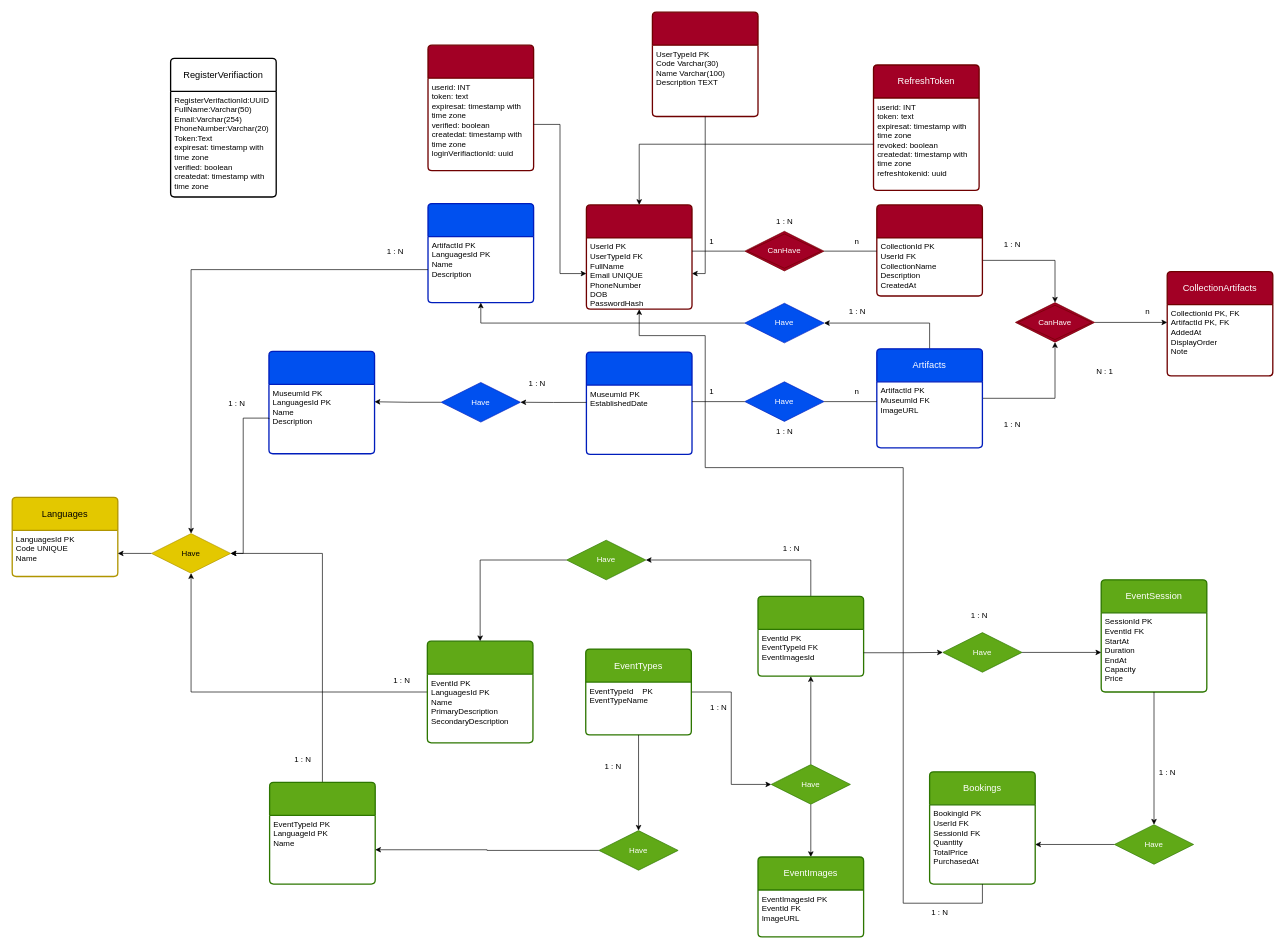
The diagram is 1284 pixels wide and 948 high, and some of its shapes have lost their labels. The box of each missing label's shape, as (x1, y1, x2, y2) in pixels:
ArtifactTranslations: (427, 203, 534, 303)
Collections: (876, 204, 983, 296)
Events: (757, 595, 864, 676)
EventsTranslations: (426, 640, 533, 743)
EventTypeTranslations: (269, 781, 376, 884)
LoginVerifiactions: (427, 44, 534, 171)
Museiums: (585, 351, 692, 455)
MuseiumsTranslations: (268, 350, 375, 454)
Users: (585, 204, 692, 310)
UserTypes: (651, 11, 758, 117)
